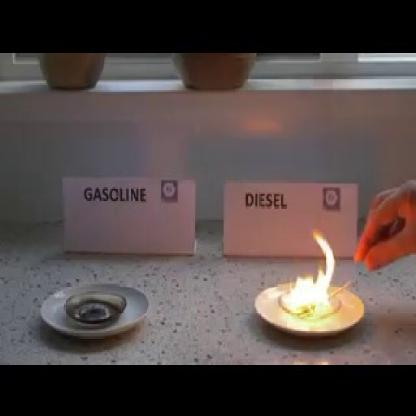fire: (281, 224, 337, 317)
